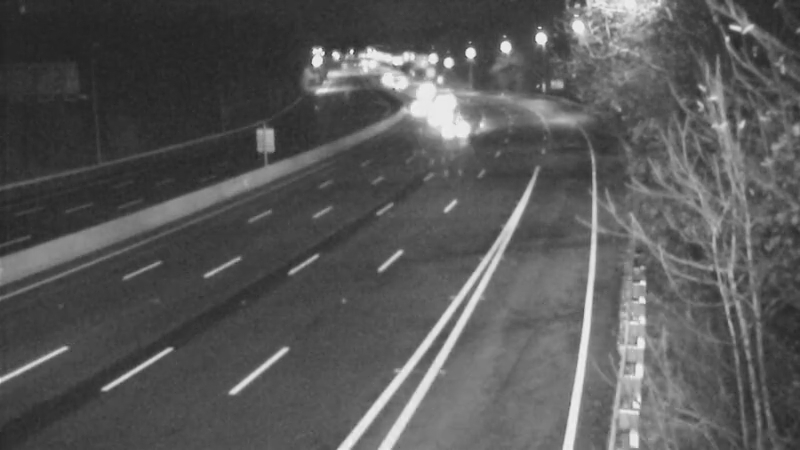vehicle: (371, 54, 421, 104), (395, 63, 445, 113), (419, 73, 469, 123), (389, 81, 439, 131), (414, 93, 464, 143), (437, 102, 487, 152)
